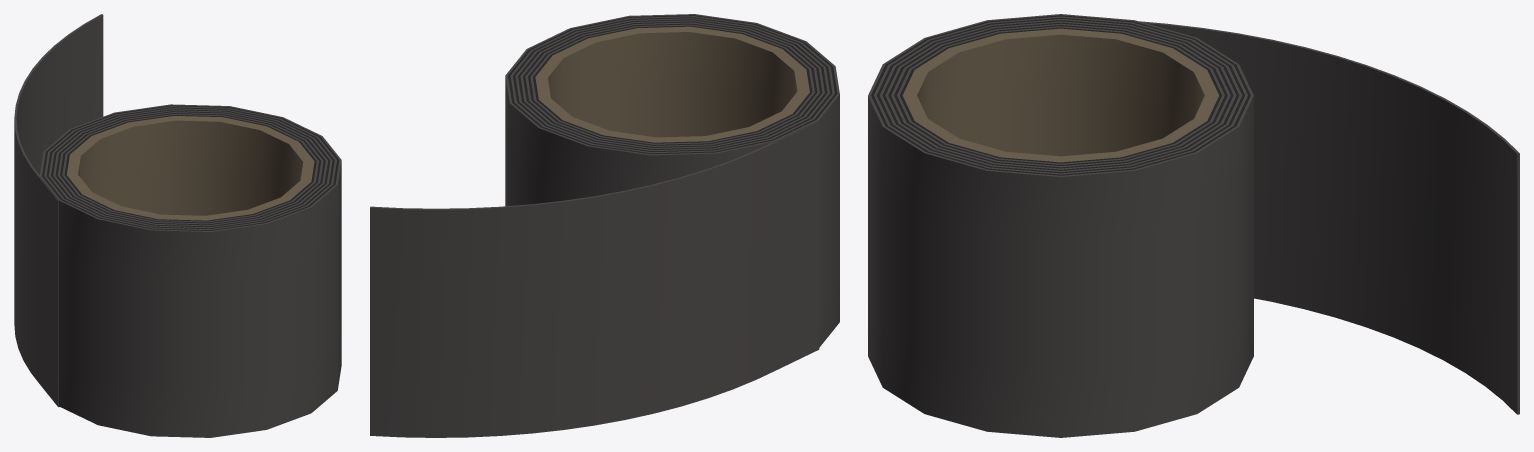
The model's file is Lent.fbx.
3 views of the same model, side by side, from view 1: azimuth 30°, elevation 25°; view 2: azimuth 150°, elevation 25°; view 3: azimuth 270°, elevation 25° (orthographic). The views are drawn at different scales.
Visible parts, largest first — view 1: Tube_12, Tube, Cube, Tube_11, Tube_10, Tube_9, Tube_8, Tube_7, Tube_6, Tube_5, Tube_4, Tube_3 (+2 smaller); view 2: Cube, Tube, Tube_12, Tube_11, Tube_10, Tube_9, Tube_8, Tube_7, Tube_6, Tube_5, Tube_4, Tube_3 (+2 smaller); view 3: Tube_12, Cube, Tube, Tube_11, Tube_10, Tube_9, Tube_8, Tube_7, Tube_6, Tube_5, Tube_4, Tube_3 (+2 smaller).
Boxes of the visible parts, bbox=[...] form: Tube_12: bbox=[39, 104, 341, 437]; Tube: bbox=[67, 116, 314, 220]; Cube: bbox=[14, 14, 103, 407]; Tube_11: bbox=[42, 105, 339, 230]; Tube_10: bbox=[44, 106, 336, 229]; Tube_9: bbox=[46, 107, 334, 228]; Tube_8: bbox=[48, 108, 332, 228]; Tube_7: bbox=[51, 109, 330, 227]; Tube_6: bbox=[53, 110, 327, 226]; Tube_5: bbox=[55, 111, 325, 225]; Tube_4: bbox=[57, 112, 323, 224]; Tube_3: bbox=[60, 113, 321, 223]; Cube: bbox=[370, 121, 819, 437]; Tube: bbox=[535, 26, 809, 142]; Tube_12: bbox=[505, 14, 839, 347]; Tube_11: bbox=[508, 15, 837, 154]; Tube_10: bbox=[510, 16, 834, 153]; Tube_9: bbox=[513, 17, 832, 152]; Tube_8: bbox=[515, 18, 829, 150]; Tube_7: bbox=[518, 19, 827, 149]; Tube_6: bbox=[520, 20, 824, 148]; Tube_5: bbox=[523, 21, 822, 147]; Tube_4: bbox=[525, 22, 819, 146]; Tube_3: bbox=[528, 23, 817, 145]; Tube_12: bbox=[868, 14, 1253, 437]; Cube: bbox=[1139, 21, 1519, 414]; Tube: bbox=[902, 28, 1218, 162]; Tube_11: bbox=[871, 15, 1250, 175]; Tube_10: bbox=[874, 16, 1247, 174]; Tube_9: bbox=[876, 17, 1244, 173]; Tube_8: bbox=[879, 19, 1242, 171]; Tube_7: bbox=[882, 20, 1239, 170]; Tube_6: bbox=[885, 21, 1236, 169]; Tube_5: bbox=[888, 22, 1233, 168]; Tube_4: bbox=[891, 23, 1230, 167]; Tube_3: bbox=[894, 25, 1227, 165].
Bounding box in the file's own units: 134 × 100 × 226.
